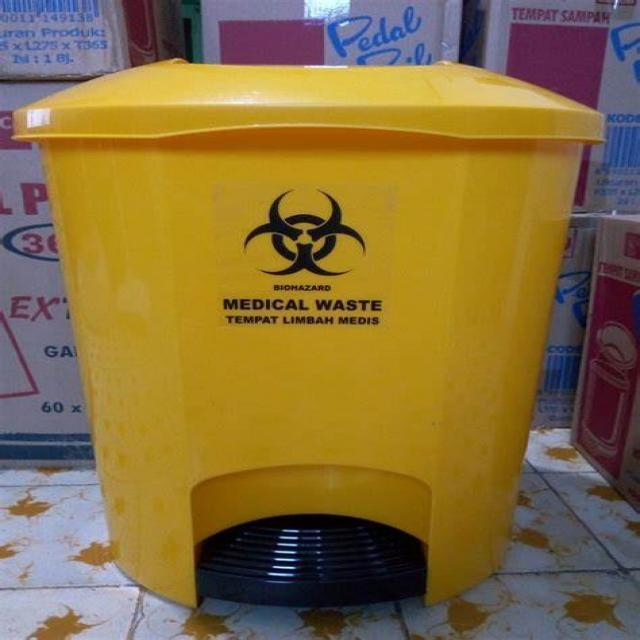garbage container: (10, 53, 610, 627)
